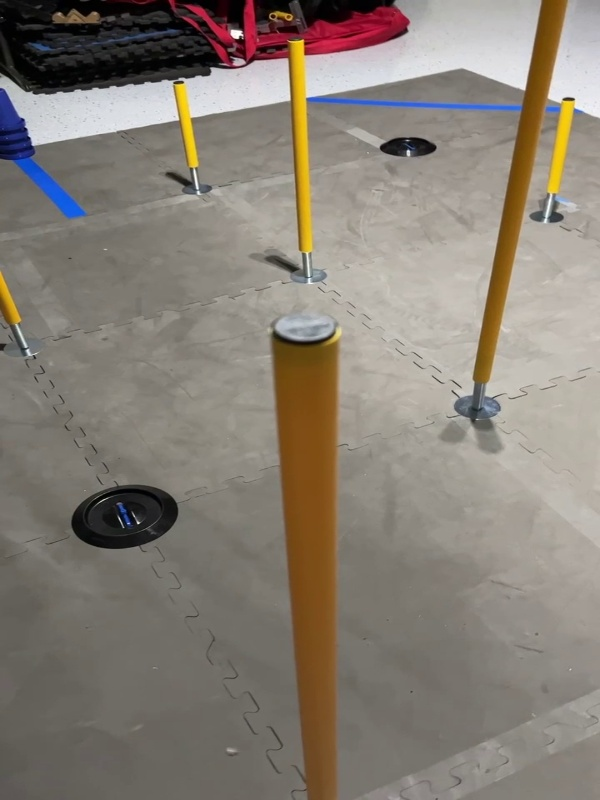top: (264, 307, 345, 349)
